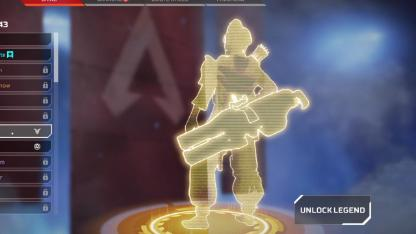Target: (189, 13, 287, 191)
